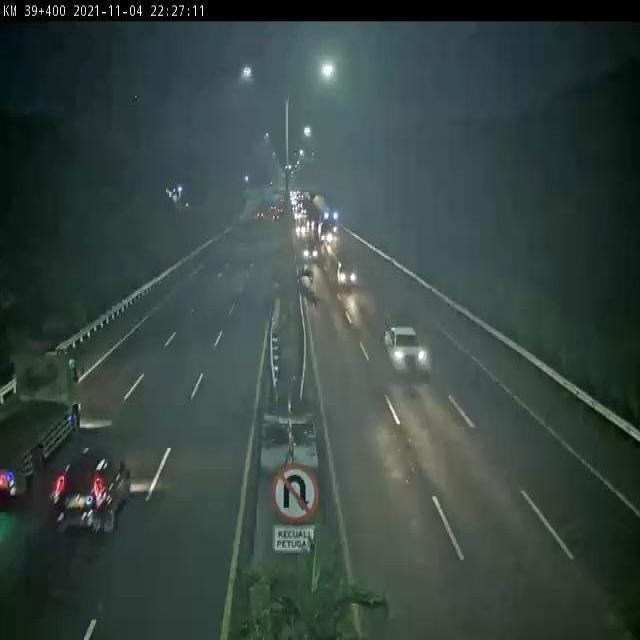car: (55, 453, 131, 532), (382, 326, 428, 374), (335, 257, 358, 284)
truck-m-: (0, 349, 80, 495)
